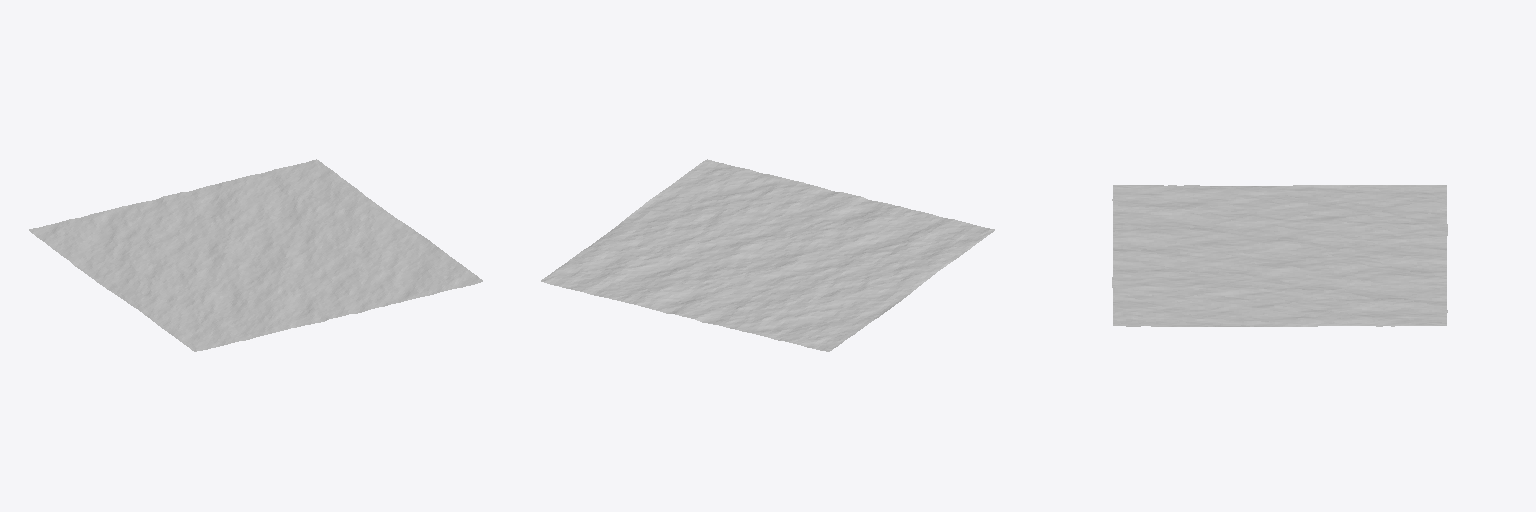
Rendered from sea_000000.obj.
The picture shows the model from 3 angles: view 1: azimuth 30°, elevation 25°; view 2: azimuth 150°, elevation 25°; view 3: azimuth 270°, elevation 25°; orthographic projection.
Parts seen in each view (by area): view 1: Plane; view 2: Plane; view 3: Plane.
Part boxes in pixels (x1,y1,x2,y2): Plane: (29, 159, 482, 351); Plane: (541, 159, 994, 351); Plane: (1112, 185, 1447, 326).
Bounding box in the file's own units: 202 × 1.86 × 201.